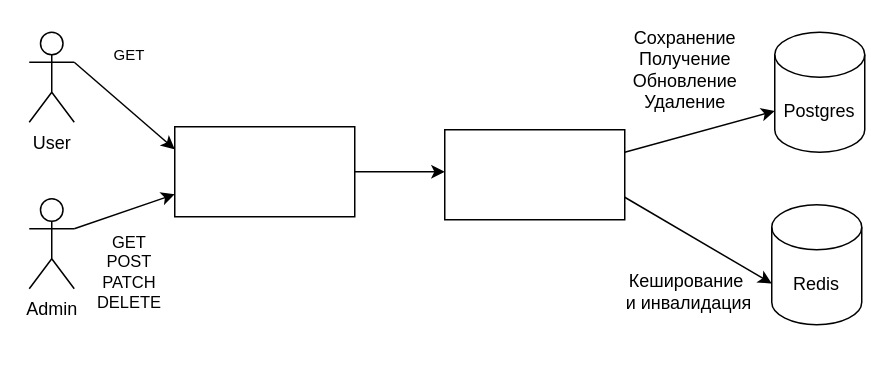
Some shapes in this 891 by 392 pixel diagram are drawn without their labels. Here are the shapes that lost their labels. From the top down, the box of each, then its label:
(173, 125, 355, 217): Authorization
(443, 128, 625, 220): Banners API
